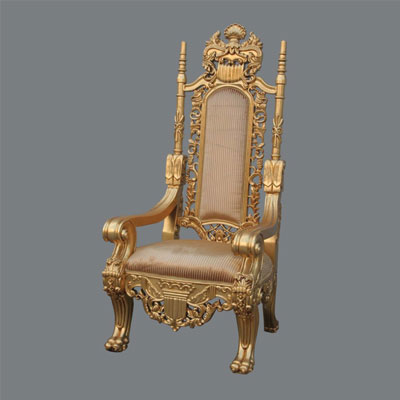Carving Chair: (120, 34, 294, 355)
